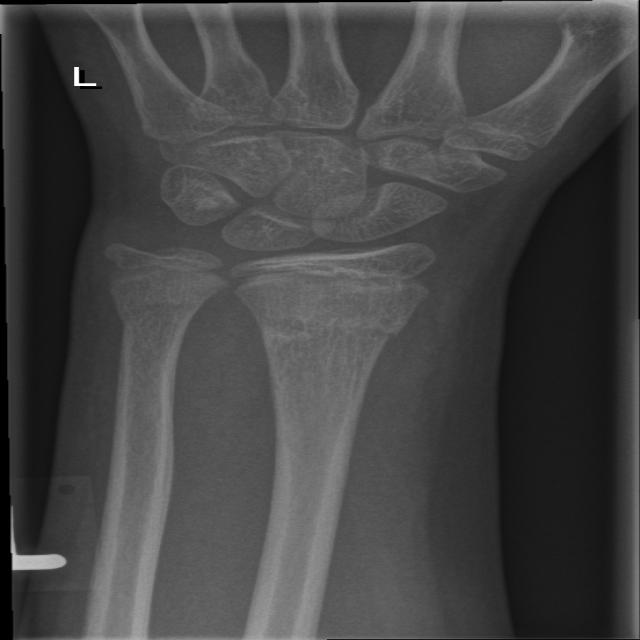radius fracture: (222, 293, 450, 444)
ulna fracture: (82, 243, 228, 369)
